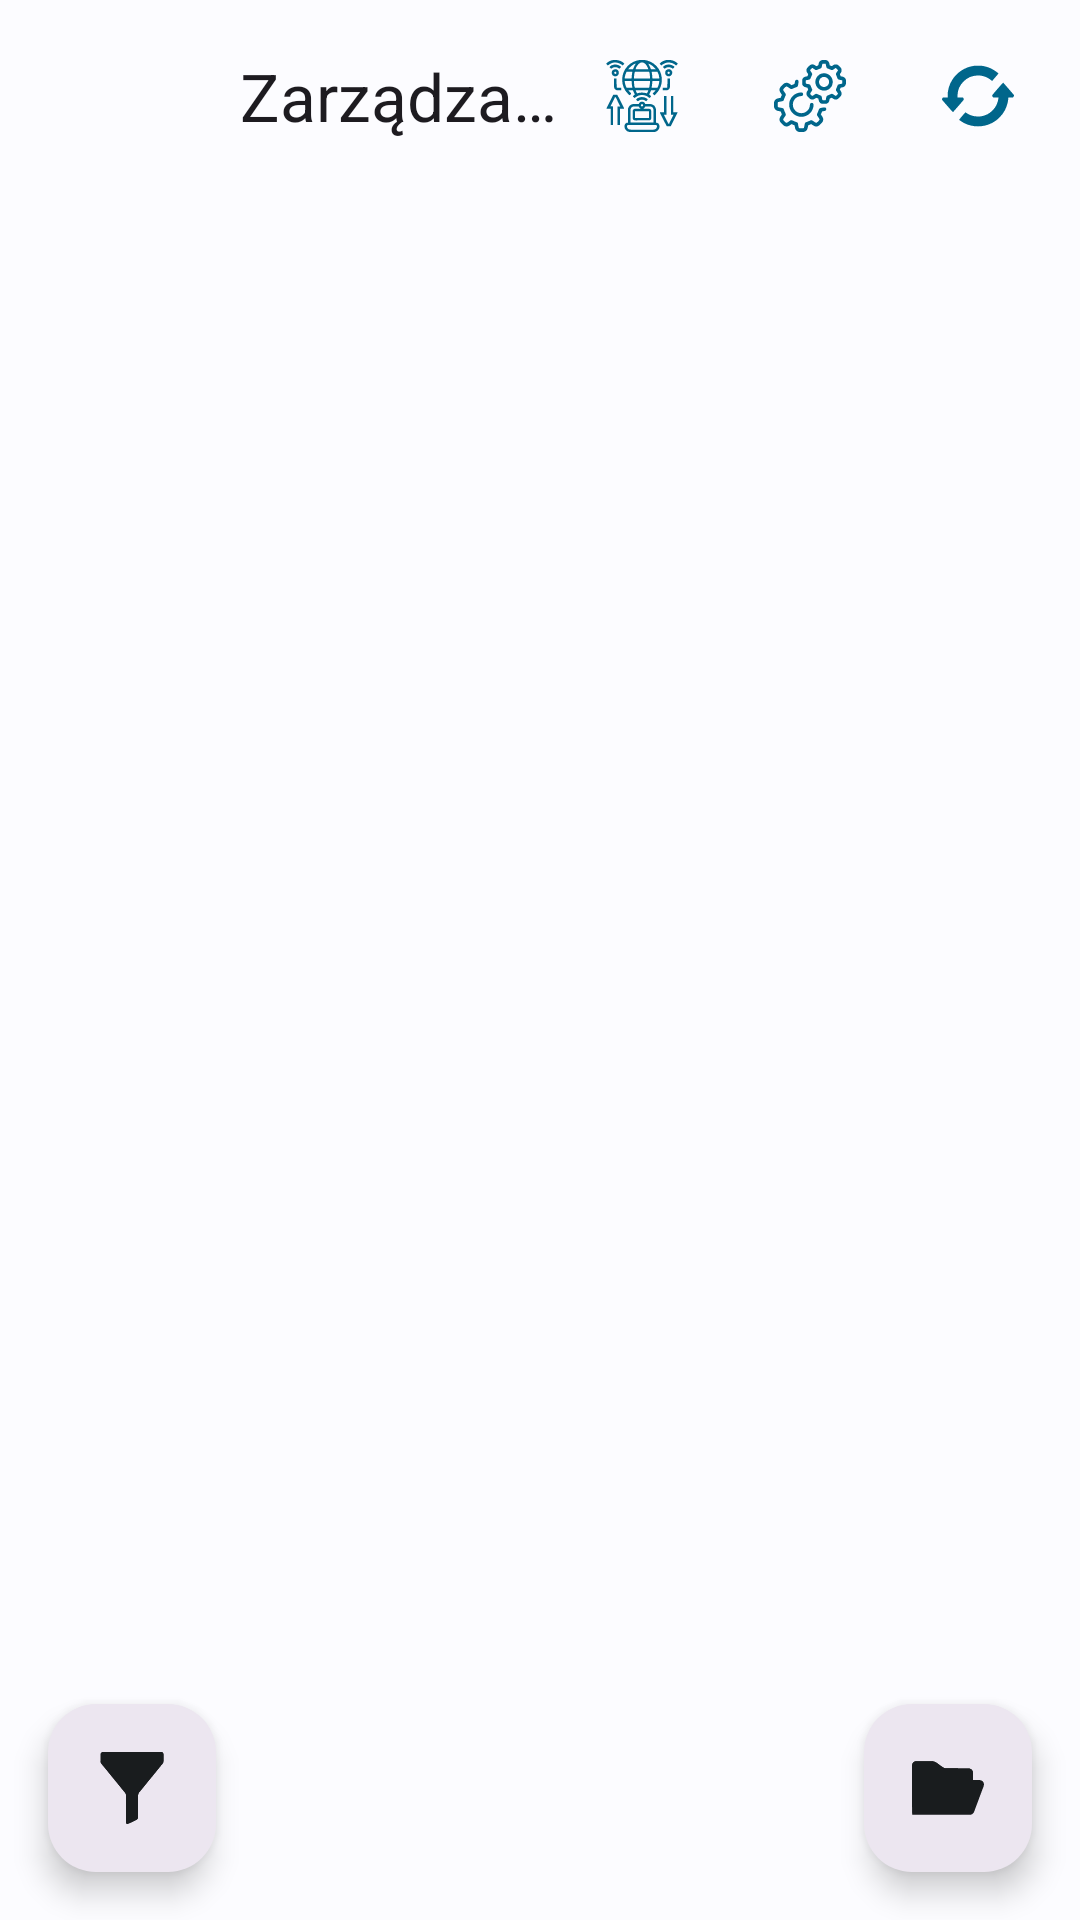

Screen size 1080*1920. Icon name, then its center in pixels as [x,y]:
Dodaj nowy folder: [948,1788]
Odśwież: [978,96]
Opcje Filtrowania: [132,1788]
Ustawienia: [810,96]
